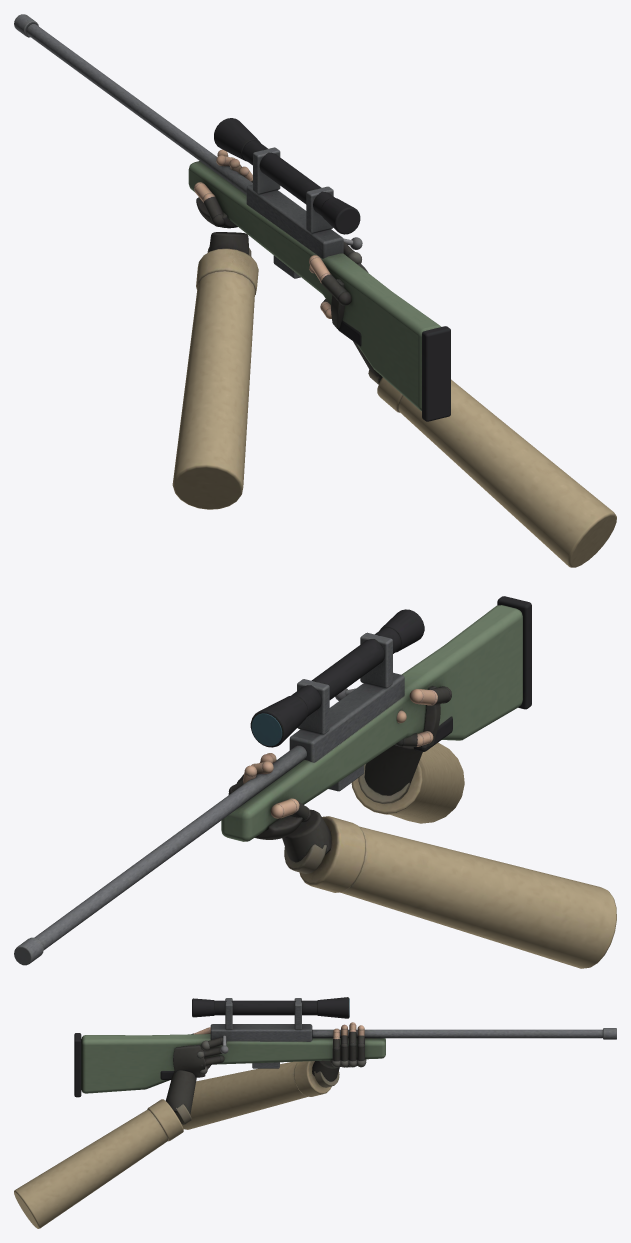
File: spejder.glb
3 views of the same model, one above another, from view 1: azimuth 30°, elevation 25°; view 2: azimuth 150°, elevation 25°; view 3: azimuth 270°, elevation 25° (orthographic). The views are drawn at different scales.
Visible parts, largest first — view 1: hænder, spejder; view 2: spejder, hænder; view 3: hænder, spejder.
Boxes of the visible parts, <box> form: hænder: <box>172,149,616,567</box>; spejder: <box>14,14,450,421</box>; spejder: <box>14,596,531,965</box>; hænder: <box>228,686,616,968</box>; hænder: <box>14,1022,366,1228</box>; spejder: <box>74,997,616,1097</box>.
Size of the model in its own units: 0.5162 by 0.4622 by 1.31.
2 materials, 2 textured.
